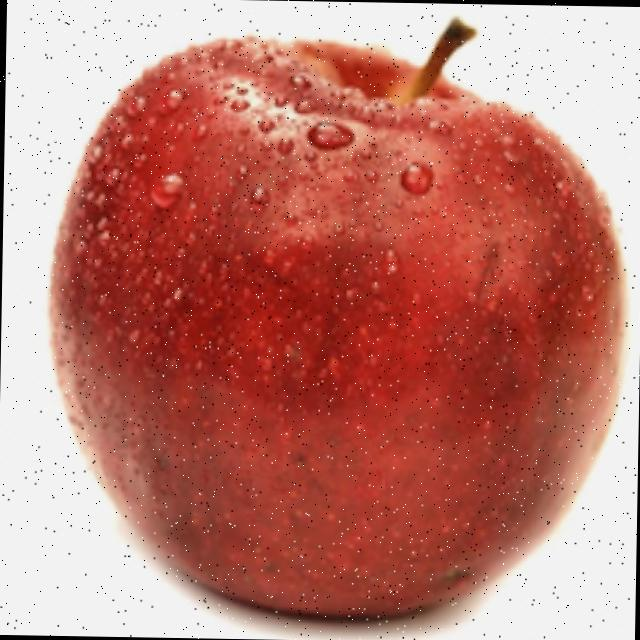Ripe: (32, 23, 630, 630)
